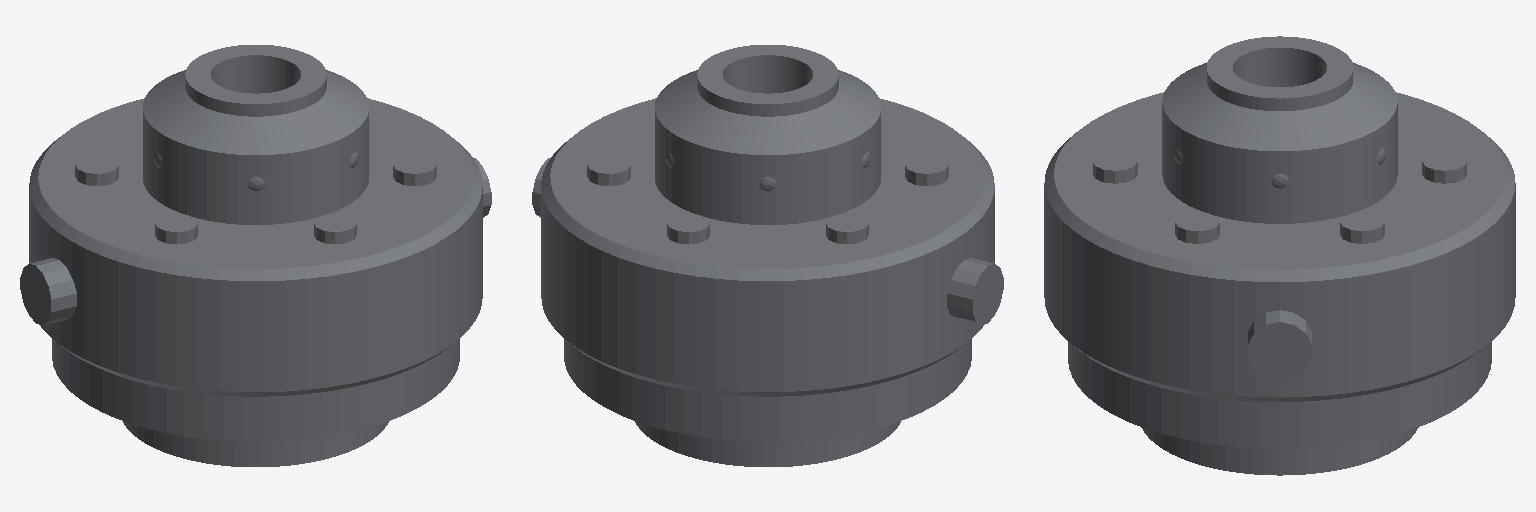
URDF robot description (tool_changer_sws011_master):
<?xml version="1.0"?>
<!--
  Tool Changer SWS-011 — マスタ側 (ロボット側): 空圧ロボットツールチェンジャの
  自作アセット (CC0-1.0)。tool-changer-sws011-tool.urdf と対で使う。

  ============================================================================
  参照実機: **SCHUNK SWS-011 / SWK-011-000-000**
    https://schunk.com/us/en/automation-technology/tool-changer/sws/swk-011-000-000/p/000000000000302316
  ============================================================================

  **これは SWK-011 の複製ではない。** 外観 (面取り・ポート配置・ボール数・カムボスの
  稜線) は独自著作で、寸法は**公表値と STEP の実測値**に合わせてある。

  **STEP の扱い**: 計測に使った CAD (CADENAS PARTserver 経由) は **CC BY-ND 4.0** で、
  ND 条項によりテッセレートしたメッシュは配布できない。そこで **STEP は「測定器」
  としてのみ使い、メッシュは読み取った寸法から手続き的に再著作**している
  (全実測値は docs/step-measurements.md)。STEP もその派生物もリポジトリには置かない。

  実測・公表値 (docs/step-measurements.md):
    - 外径 **ø50** (実測 ø50.20 / 公表 ø50)
    - 板本体 **15.5 mm** = 結合面から外周リム上端まで (実測と公表が一致)
    - **カムボス 12.5 mm** 突出、先端 r 7.8 (SWA の段付き受け穴へ入る)
    - **上部構造 12.8 mm** (ピストンカバー r 22.35)。**mount 面よりロボット側へ出る**ので、
      ロボット側インタフェースプレートには逃がしの穴が要る
    - **取付 "S7" = ボルト円 ø40 / 45-135-225-315 度、SWK は M3x25 貫通 x4** (公式
      カタログ SWS 011 Main view で確定。STEP 実測 ø39.9 は公差内で一致)
    - エア通し **6 ポート ø2.8 / ボルト円 ø35** (SWA と共通)
    - 質量 **0.13 kg** / 可搬 16 kg / ロック力 1100 N / 繰返し精度 0.015 mm

  **S7 は ISO 9409-1 ではない**ので、ロボットフランジには直付けできない。実機と同じく
  アダプタプレートを介する (カタログでは別アセット flange-plate-sws011 が担当)。
  「利用者が持っている実機でそのままシミュレーションできるか」を優先し、組み合わせの
  都合でインタフェースを描き替えることはしない。

  座標系 (botrail カタログ規約): Z-up / メートル。root リンク mount = ロボット側の
  座面 (外周リム上端。+Z がツール側)。coupling = SWA が載る結合面 (z = 15.5 mm)。

  visual: tools/generate_meshes.py が生成する ../meshes/master.stl (手続き的著作)
  collision: URDF プリミティブのみ (上部構造 + 板 + カムボス + 側面ポート)
-->
<robot name="tool_changer_sws011_master">

  <link name="mount"/>

  <link name="body">
    <!--
      色: STL は材質を持てないので外観はここで述べる。述べないと消費側が
      リンクを既定パレット (studio は 8 色循環) で塗り、**同じ製品でもシーン内の
      並び順で色が変わる**。参照実機の公表資料に塗色の記載が無いため実機の色は
      主張せず、この種の部品として素直な地色を著作する。数値は **linear** で渡る
      (botrail は URDF の <color rgba> をそのまま Shape.color に載せ、studio は
      LinearSRGB として読む)。
    -->
    <visual>
      <geometry>
        <mesh filename="../meshes/master.stl"/>
      </geometry>
      <material name="anodised_aluminium"><!-- アルマイト地のアルミ (マスタ側) -->
        <color rgba="0.50 0.51 0.53 1.0"/>
      </material>
    </visual>

    <collision><!-- piston cover, protrudes ~12.8 mm to the robot side (r 22.35) -->
      <origin xyz="0 0 -0.0064"/>
      <geometry><cylinder radius="0.0225" length="0.0128"/></geometry>
    </collision>
    <collision><!-- main plate ø50 x 15.5 (SWK-011) -->
      <origin xyz="0 0 0.00775"/>
      <geometry><cylinder radius="0.025" length="0.0155"/></geometry>
    </collision>
    <collision><!-- cam boss (enters the SWA receiving bore) -->
      <origin xyz="0 0 0.02175"/>
      <geometry><cylinder radius="0.0125" length="0.0125"/></geometry>
    </collision>
    <collision><!-- lock air port boss -->
      <origin xyz="0.0265 0 0.00775" rpy="0 1.5708 0"/>
      <geometry><cylinder radius="0.0035" length="0.007"/></geometry>
    </collision>
    <collision><!-- unlock air port boss -->
      <origin xyz="-0.0265 0 0.00775" rpy="0 1.5708 0"/>
      <geometry><cylinder radius="0.0035" length="0.007"/></geometry>
    </collision>

    <!-- 質量 0.13 kg (公表値)。重心は STEP 実測 (mount 面から +6.42 mm)。
         慣性は ø50 x 40.8 の中実円柱近似 -->
    <inertial>
      <origin xyz="0 0 0.00642"/>
      <mass value="0.13"/>
      <inertia ixx="3.835e-5" ixy="0.0" ixz="0.0" iyy="3.835e-5" iyz="0.0" izz="4.063e-5"/>
    </inertial>
  </link>

  <!-- 結合面: SWA 側プレートの mount がここに載る (積み高さ 36.1 mm の基準) -->
  <link name="coupling"/>

  <joint name="body_joint" type="fixed">
    <parent link="mount"/>
    <child link="body"/>
  </joint>

  <joint name="coupling_joint" type="fixed">
    <origin xyz="0 0 0.0155"/>
    <parent link="body"/>
    <child link="coupling"/>
  </joint>

</robot>

--- What the picture shows (computed from the rendered views, not written in the file) ---
The picture shows the robot from 3 angles, left to right: view 1: azimuth 30°, elevation 25°; view 2: azimuth 150°, elevation 25°; view 3: azimuth 270°, elevation 25°; orthographic projection.
Robot: tool_changer_sws011_master — 3 links, 2 joints (2 fixed); root link mount; default pose: every joint at zero.
Links seen in each view (by area): view 1: body; view 2: body; view 3: body.
Boxes of the visible links, box(x1,y1,x2,y2) form: body: box(20, 45, 491, 466); body: box(532, 45, 1003, 466); body: box(1044, 36, 1515, 475).
Size in the robot's own frame: 0.056 by 0.05 by 0.0408 metres.
Meshes: 1 distinct files referenced, 1 mesh visuals loaded (1 binary STL).
